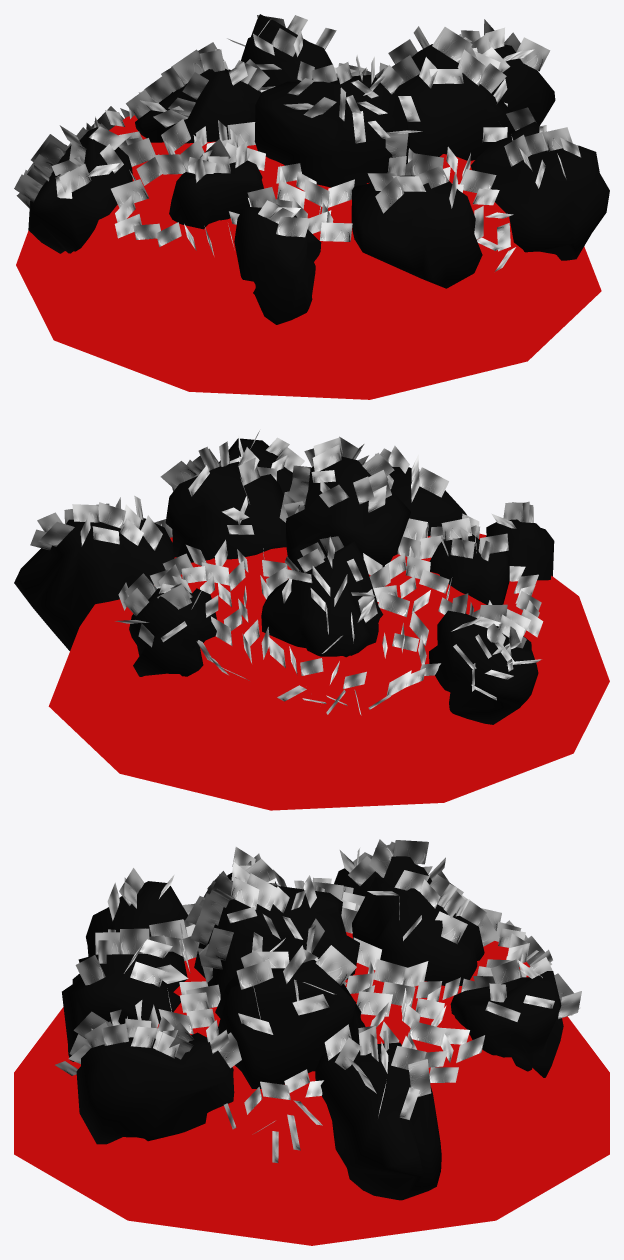
Rendered from SM_Small_Rocks_Pile_B.fbx.
The picture shows the model from 3 angles, top to bottom: view 1: azimuth 30°, elevation 25°; view 2: azimuth 150°, elevation 25°; view 3: azimuth 270°, elevation 25°; orthographic projection. The views are drawn at different scales.
Parts seen in each view (by area): view 1: SM_Small_Rocks_Pile_B_LOD0; view 2: SM_Small_Rocks_Pile_B_LOD0; view 3: SM_Small_Rocks_Pile_B_LOD0.
Boxes of the visible parts, x1,y1,x2,y2 form: SM_Small_Rocks_Pile_B_LOD0: [14, 14, 609, 399]; SM_Small_Rocks_Pile_B_LOD0: [14, 430, 609, 810]; SM_Small_Rocks_Pile_B_LOD0: [14, 839, 609, 1245].
Bounding box in the file's own units: 159 × 142 × 65.68.
Materials: 2 (1 with a texture image).
